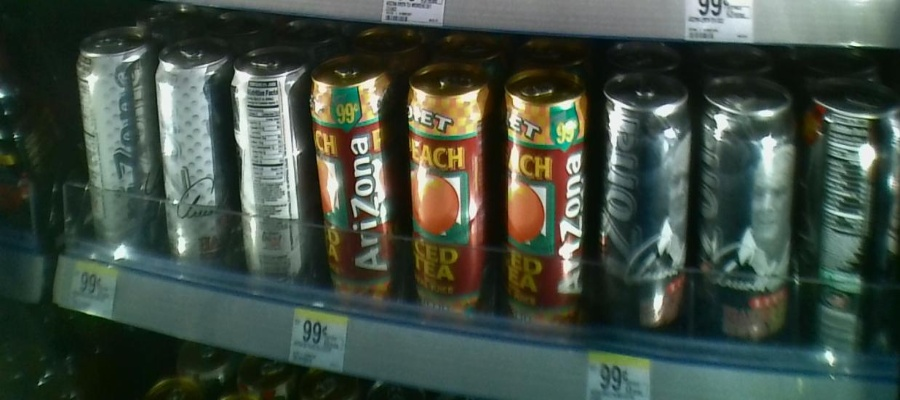bottle: (801, 78, 899, 385), (696, 68, 797, 357), (598, 62, 691, 349), (402, 50, 495, 334), (498, 57, 588, 332), (309, 53, 397, 310), (231, 44, 304, 302), (71, 27, 154, 249), (156, 40, 229, 270)
